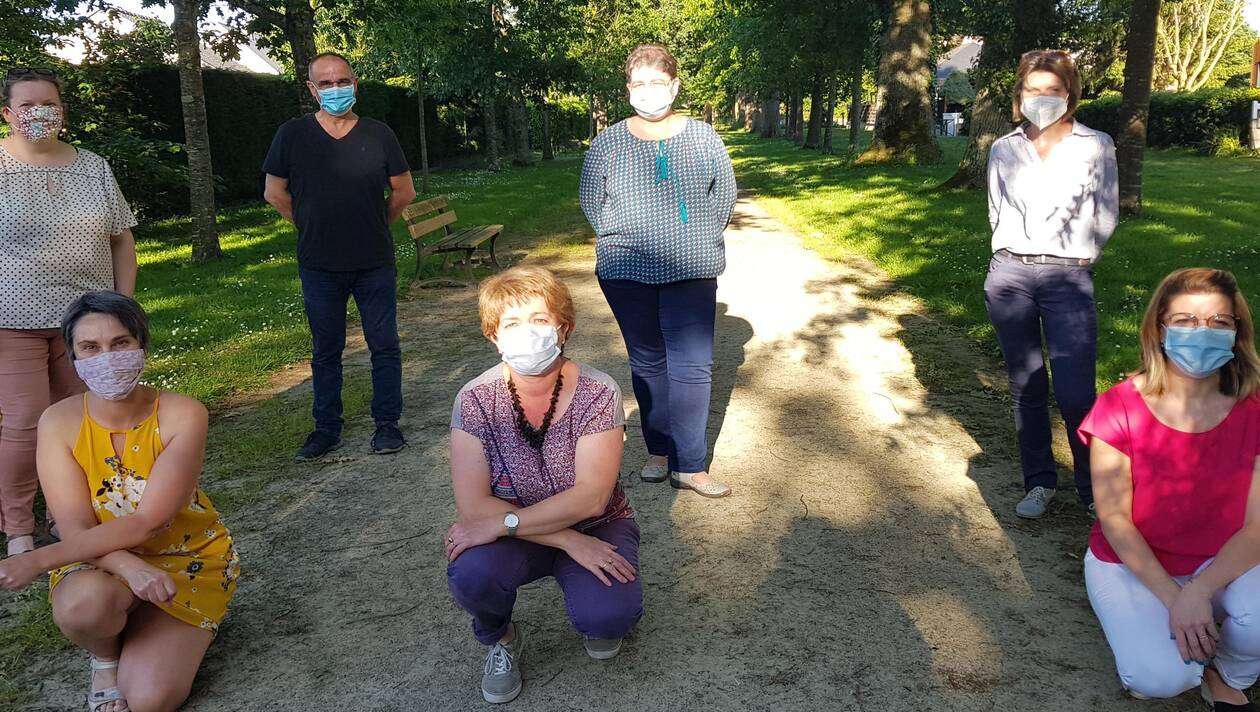with_mask: (481, 285, 565, 382), (71, 317, 149, 403), (1164, 284, 1228, 380), (307, 55, 366, 126), (8, 82, 65, 149), (1017, 72, 1077, 130), (628, 55, 674, 120)
